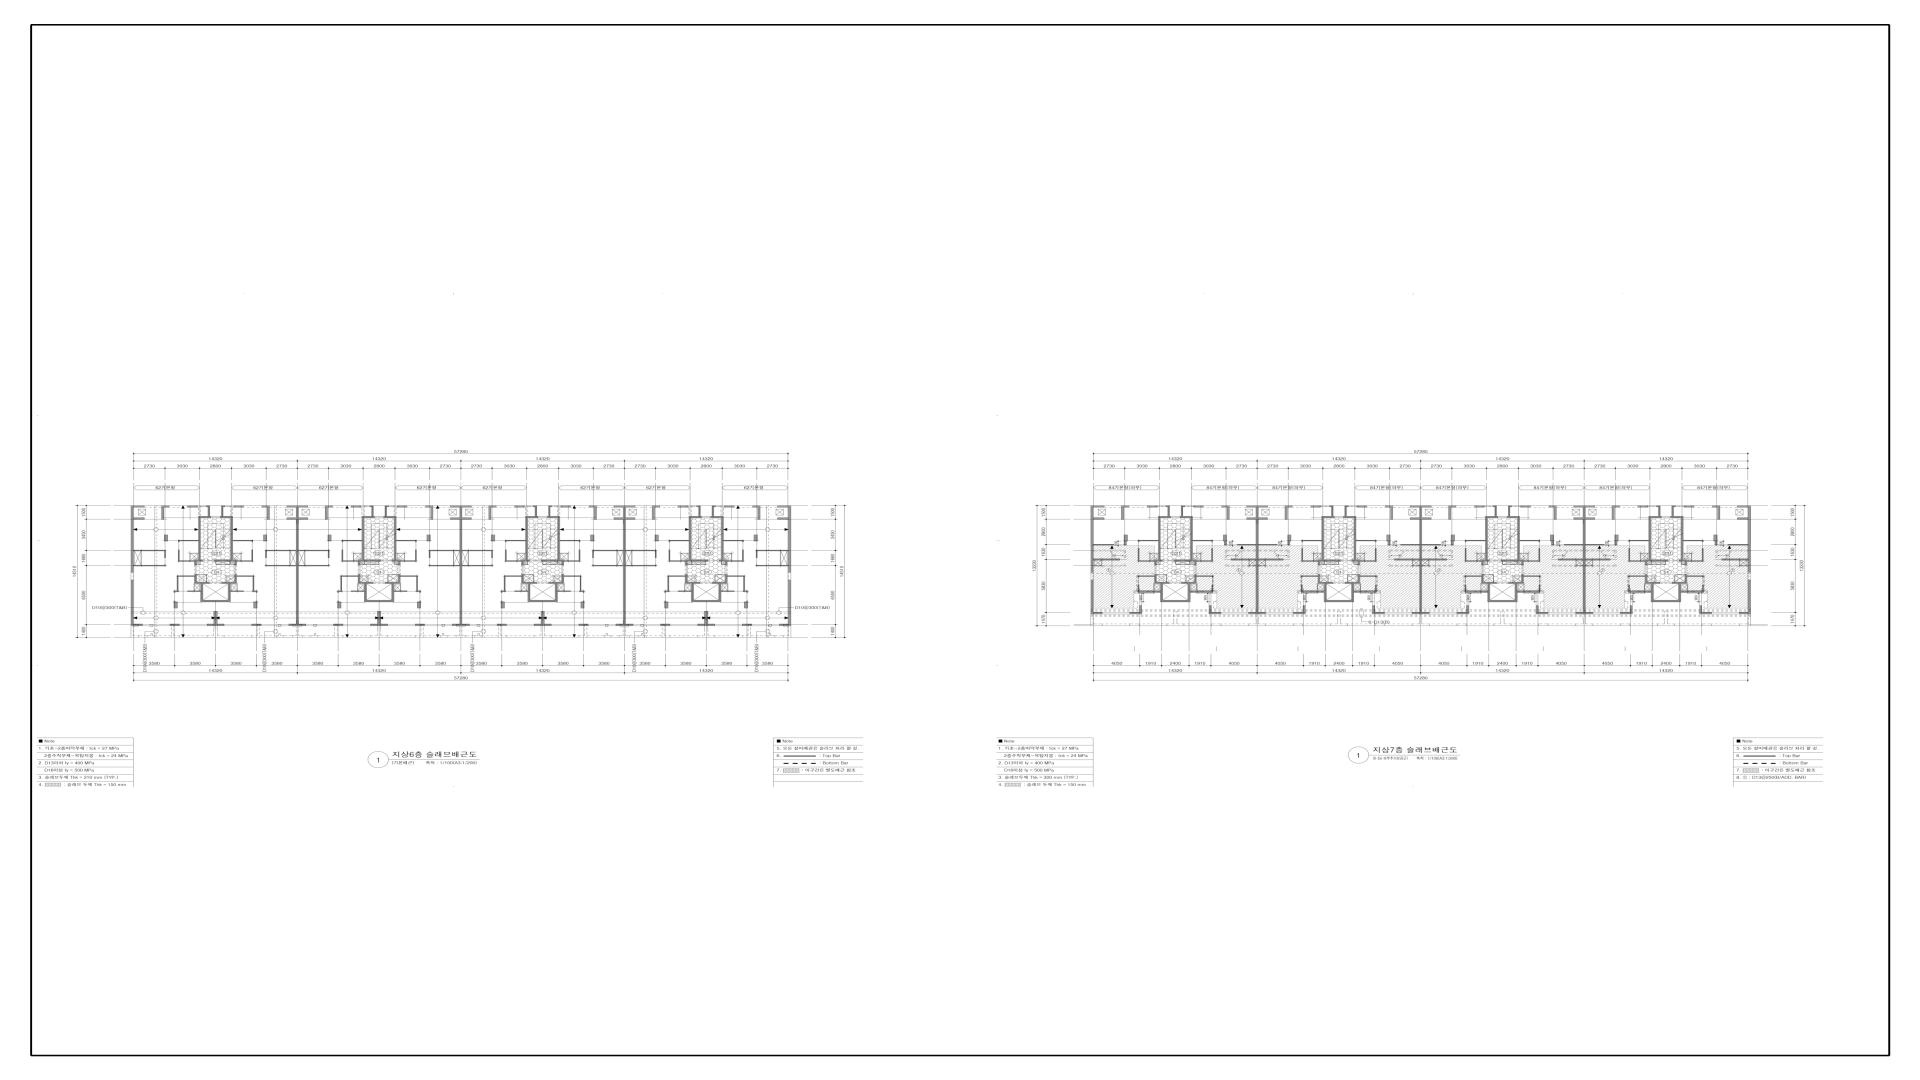wall: (297, 508, 299, 624), (624, 508, 626, 624), (1582, 508, 1585, 615), (1255, 508, 1258, 612), (1091, 505, 1093, 572), (131, 566, 133, 626), (131, 505, 133, 566), (789, 566, 791, 626), (460, 508, 462, 624), (1420, 508, 1422, 615), (1749, 580, 1751, 626), (198, 518, 200, 562), (231, 516, 233, 559), (558, 518, 560, 562), (721, 516, 724, 559), (1518, 518, 1520, 562), (1681, 516, 1684, 559), (1749, 508, 1751, 551), (1158, 518, 1160, 562), (789, 508, 791, 550), (361, 518, 364, 559), (394, 518, 397, 559), (525, 518, 527, 559), (1321, 518, 1324, 559), (1485, 518, 1487, 559), (1648, 518, 1651, 559), (1091, 580, 1093, 615), (691, 600, 721, 603), (1651, 600, 1681, 603), (203, 600, 228, 603), (367, 600, 392, 603), (530, 600, 555, 603), (1327, 600, 1352, 603), (1490, 600, 1515, 603), (1163, 600, 1188, 603), (357, 559, 381, 562), (1317, 559, 1341, 562), (1644, 559, 1668, 562), (450, 505, 472, 508), (686, 559, 708, 562), (1410, 505, 1432, 508), (1573, 505, 1596, 508), (1191, 516, 1192, 559), (214, 559, 235, 562), (287, 505, 309, 508), (615, 505, 636, 508), (1246, 505, 1267, 508), (1749, 551, 1751, 572), (1174, 559, 1195, 562), (1356, 539, 1377, 542), (690, 518, 691, 559), (1354, 518, 1356, 559), (178, 539, 198, 542), (214, 611, 218, 624), (233, 539, 253, 542), (377, 611, 381, 624), (342, 539, 361, 542), (397, 539, 417, 542), (505, 539, 525, 542), (541, 611, 545, 624), (560, 539, 580, 542), (669, 539, 688, 542), (704, 611, 708, 624), (724, 539, 744, 542), (1193, 539, 1213, 542), (1138, 539, 1158, 542), (1302, 539, 1321, 542), (1465, 539, 1485, 542), (1520, 539, 1540, 542), (1629, 539, 1648, 542), (1684, 539, 1704, 542), (200, 584, 203, 603), (228, 584, 231, 603), (364, 584, 367, 603), (392, 584, 394, 603), (527, 584, 530, 603), (555, 584, 558, 603), (1324, 584, 1327, 603), (1352, 584, 1354, 603), (1487, 584, 1490, 603), (1515, 584, 1518, 603), (1160, 584, 1163, 603), (1188, 584, 1191, 603), (131, 564, 166, 566), (756, 564, 791, 566), (207, 624, 224, 626), (289, 624, 306, 626), (371, 624, 388, 626), (452, 624, 469, 626), (534, 624, 551, 626), (541, 559, 558, 562), (616, 624, 633, 626), (698, 624, 715, 626), (757, 550, 791, 551), (1501, 559, 1518, 562), (1196, 575, 1213, 578), (1249, 612, 1266, 615), (133, 550, 166, 551), (222, 582, 237, 584), (222, 505, 225, 516), (265, 564, 297, 566), (357, 582, 373, 584), (385, 582, 401, 584), (369, 505, 373, 516), (385, 505, 389, 516), (429, 564, 460, 566), (462, 564, 493, 566), (533, 505, 537, 516), (549, 505, 553, 516), (549, 582, 564, 584), (592, 564, 624, 566), (592, 550, 624, 551), (691, 584, 694, 600), (719, 584, 721, 600), (712, 582, 728, 584), (1317, 582, 1333, 584), (1329, 505, 1333, 516), (1345, 505, 1349, 516), (1493, 505, 1497, 516), (1509, 505, 1513, 516), (1509, 582, 1524, 584), (1651, 584, 1654, 600), (1679, 584, 1681, 600), (1672, 582, 1688, 584), (1138, 575, 1154, 578), (1182, 505, 1185, 516), (1302, 575, 1317, 578), (1465, 575, 1481, 578), (1524, 575, 1540, 578), (1629, 575, 1644, 578), (1688, 575, 1704, 578), (1345, 582, 1361, 584), (266, 550, 297, 551), (299, 550, 330, 551), (299, 564, 330, 566), (430, 550, 460, 551), (462, 550, 492, 551), (626, 564, 657, 566), (595, 505, 597, 520), (626, 550, 655, 551), (789, 551, 791, 566), (1553, 505, 1556, 520), (1182, 582, 1196, 584), (198, 516, 211, 518), (196, 582, 210, 584), (361, 516, 375, 518), (384, 516, 397, 518), (525, 516, 538, 518), (524, 582, 537, 584), (547, 516, 560, 518), (688, 516, 702, 518), (778, 505, 791, 508), (1738, 505, 1751, 508), (1321, 516, 1335, 518), (1485, 516, 1498, 518), (1484, 582, 1497, 584), (1507, 516, 1520, 518), (1648, 516, 1662, 518), (1647, 582, 1660, 584), (1722, 559, 1749, 560), (1158, 516, 1171, 518), (1156, 582, 1170, 584), (1093, 559, 1120, 560), (1394, 559, 1420, 560), (1230, 559, 1255, 560), (1258, 559, 1283, 560), (1422, 559, 1447, 560), (1585, 559, 1610, 560), (133, 505, 145, 508), (133, 517, 145, 520), (161, 508, 164, 520), (653, 508, 655, 520), (688, 582, 700, 584), (758, 508, 761, 520), (1718, 508, 1721, 520), (1737, 517, 1749, 520), (1284, 508, 1287, 520), (1448, 508, 1451, 520), (1611, 508, 1614, 520), (1121, 508, 1124, 520), (1226, 508, 1229, 520), (1344, 516, 1356, 518), (1130, 612, 1142, 615), (1209, 612, 1221, 615), (1294, 612, 1305, 615), (1373, 612, 1385, 615), (1457, 612, 1469, 615), (1559, 559, 1582, 560), (1138, 591, 1160, 592), (1191, 591, 1213, 592), (1302, 591, 1324, 592), (1354, 591, 1377, 592), (1465, 591, 1487, 592), (1518, 591, 1540, 592), (1629, 591, 1651, 592), (1681, 591, 1704, 592), (194, 574, 196, 584), (187, 505, 198, 508), (220, 516, 231, 518), (233, 505, 244, 508), (286, 517, 297, 520), (351, 505, 361, 508), (397, 505, 407, 508), (450, 517, 460, 520), (462, 517, 472, 520), (514, 505, 525, 508), (560, 505, 571, 508), (678, 505, 688, 508), (686, 574, 688, 584), (711, 516, 721, 518), (724, 505, 735, 508), (778, 517, 789, 520), (1684, 505, 1695, 508), (1311, 505, 1321, 508), (1357, 505, 1367, 508), (1410, 517, 1420, 520), (1422, 517, 1432, 520), (1474, 505, 1485, 508), (1520, 505, 1531, 508), (1585, 517, 1596, 520), (1638, 505, 1648, 508), (1644, 574, 1647, 584), (1671, 516, 1681, 518), (1093, 505, 1104, 508), (1093, 517, 1104, 520), (1147, 505, 1158, 508), (1180, 516, 1191, 518), (1193, 505, 1204, 508), (174, 601, 178, 608), (164, 534, 167, 541), (253, 601, 257, 608), (338, 601, 342, 608), (417, 601, 421, 608), (501, 601, 505, 608), (580, 601, 584, 608), (591, 534, 595, 541), (665, 601, 669, 608), (744, 601, 748, 608), (754, 534, 758, 541), (1124, 534, 1127, 541), (1287, 534, 1291, 541), (1258, 545, 1278, 546), (1585, 545, 1605, 546), (133, 624, 142, 626), (170, 624, 179, 626), (252, 624, 261, 626), (299, 517, 309, 520), (334, 624, 343, 626), (415, 624, 425, 626), (392, 559, 401, 562), (521, 559, 530, 562), (521, 575, 524, 584), (497, 624, 506, 626), (579, 624, 588, 626), (615, 517, 624, 520), (626, 517, 636, 520), (667, 575, 686, 576), (661, 624, 670, 626), (742, 624, 752, 626), (779, 624, 789, 626), (1246, 517, 1255, 520), (1258, 517, 1267, 520), (1352, 559, 1361, 562), (1481, 575, 1484, 584), (1573, 517, 1582, 520), (1679, 559, 1688, 562), (1739, 612, 1749, 615), (1154, 575, 1156, 584), (1093, 612, 1102, 615), (1539, 612, 1548, 615), (1536, 605, 1539, 615), (1621, 612, 1630, 615), (1630, 605, 1633, 615), (1702, 612, 1712, 615), (1700, 605, 1702, 615), (177, 575, 194, 576), (237, 575, 255, 576), (340, 575, 357, 576), (401, 575, 418, 576), (504, 575, 521, 576), (1361, 575, 1378, 576), (1196, 560, 1213, 562), (161, 505, 169, 508), (178, 560, 194, 562), (237, 560, 253, 562), (357, 574, 360, 582), (427, 535, 431, 541), (562, 574, 564, 582), (564, 575, 580, 576), (580, 575, 582, 591), (653, 505, 661, 508), (670, 560, 686, 562), (744, 575, 745, 591), (728, 575, 744, 576), (720, 559, 728, 562), (753, 505, 761, 508), (1713, 505, 1721, 508), (1284, 505, 1292, 508), (1317, 574, 1320, 582), (1360, 560, 1375, 562), (1448, 505, 1456, 508), (1451, 535, 1455, 541), (1481, 559, 1489, 562), (1522, 574, 1524, 582), (1611, 505, 1619, 508), (1614, 535, 1618, 541), (1121, 505, 1129, 508), (1138, 560, 1154, 562), (1221, 505, 1229, 508), (1422, 612, 1429, 615), (1585, 612, 1593, 615), (177, 576, 178, 591), (253, 576, 255, 591), (340, 576, 342, 591), (417, 576, 418, 591), (343, 560, 357, 562), (401, 560, 415, 562), (431, 505, 433, 520), (506, 560, 521, 562), (504, 576, 505, 591), (564, 560, 579, 562), (667, 576, 669, 591), (728, 560, 742, 562), (1303, 560, 1317, 562), (1391, 505, 1393, 520), (1466, 560, 1481, 562), (1524, 560, 1539, 562), (1630, 560, 1644, 562), (1688, 560, 1702, 562), (187, 591, 200, 592), (231, 591, 244, 592), (235, 575, 237, 582), (235, 559, 237, 566), (262, 505, 269, 508), (326, 505, 332, 508), (328, 534, 331, 541), (351, 591, 364, 592), (398, 575, 401, 582), (394, 591, 407, 592), (489, 505, 496, 508), (514, 591, 527, 592), (558, 591, 571, 592), (678, 591, 691, 592), (721, 591, 735, 592), (725, 575, 728, 582), (1714, 534, 1717, 541), (1358, 575, 1361, 582), (1551, 534, 1553, 541), (1685, 575, 1688, 582), (1302, 549, 1303, 562), (1375, 549, 1377, 562), (1465, 549, 1466, 562), (1539, 549, 1540, 562), (1629, 549, 1630, 562), (1702, 549, 1704, 562), (1139, 605, 1142, 612), (1209, 605, 1212, 612), (1303, 605, 1305, 612), (1373, 605, 1375, 612), (1412, 612, 1419, 615), (1466, 605, 1469, 612), (1576, 612, 1582, 615), (268, 508, 269, 520), (326, 508, 327, 520), (342, 550, 343, 562), (415, 550, 417, 562), (489, 508, 491, 520), (505, 550, 506, 562), (579, 550, 580, 562), (669, 550, 670, 562), (742, 550, 744, 562), (1138, 549, 1139, 560), (1212, 549, 1213, 560), (178, 550, 179, 560), (252, 550, 253, 560), (264, 535, 266, 541), (426, 505, 431, 508), (492, 535, 495, 541), (589, 505, 595, 508), (655, 535, 658, 541), (1386, 505, 1391, 508), (1387, 535, 1390, 541), (1224, 535, 1226, 541), (1224, 541, 1226, 546), (1387, 541, 1390, 546), (208, 506, 210, 516), (699, 506, 700, 516), (712, 506, 713, 516), (1672, 506, 1673, 516), (1659, 506, 1660, 516), (1168, 506, 1170, 516), (194, 559, 198, 562), (194, 562, 196, 566), (265, 550, 266, 558), (357, 562, 360, 566), (398, 562, 401, 566), (429, 550, 430, 558), (492, 550, 493, 558), (521, 562, 524, 566), (560, 559, 564, 562), (562, 562, 564, 566), (655, 550, 657, 558), (725, 562, 728, 566), (756, 550, 757, 558), (1317, 562, 1320, 566), (1358, 562, 1361, 566), (1481, 562, 1484, 566), (1520, 559, 1524, 562), (1522, 562, 1524, 566), (1549, 505, 1553, 508), (1644, 562, 1647, 566), (1685, 562, 1688, 566), (1714, 541, 1717, 545), (1154, 559, 1158, 562), (1154, 562, 1156, 566), (1124, 541, 1126, 545), (1287, 541, 1290, 545), (1451, 541, 1453, 545), (1614, 541, 1617, 545), (165, 551, 166, 558), (328, 551, 330, 558), (592, 551, 593, 558), (1195, 575, 1196, 582), (1195, 559, 1196, 566), (1138, 584, 1139, 591), (1212, 584, 1213, 591), (1302, 584, 1303, 591), (1375, 584, 1377, 591), (1465, 584, 1466, 591), (1539, 584, 1540, 591), (1629, 584, 1630, 591), (1702, 584, 1704, 591), (174, 591, 179, 592), (200, 559, 203, 562), (252, 591, 257, 592), (338, 591, 343, 592), (415, 591, 421, 592), (501, 591, 506, 592), (579, 591, 584, 592), (665, 591, 670, 592), (742, 591, 748, 592), (206, 505, 210, 506), (696, 505, 700, 506), (686, 562, 687, 566), (712, 505, 716, 506), (1672, 505, 1676, 506), (1656, 505, 1660, 506), (1166, 505, 1170, 506), (1552, 541, 1553, 545), (1160, 559, 1162, 562), (1727, 545, 1749, 545), (1093, 545, 1114, 545), (1237, 545, 1255, 545), (1400, 545, 1420, 545), (1422, 545, 1441, 545), (1564, 545, 1582, 545)
